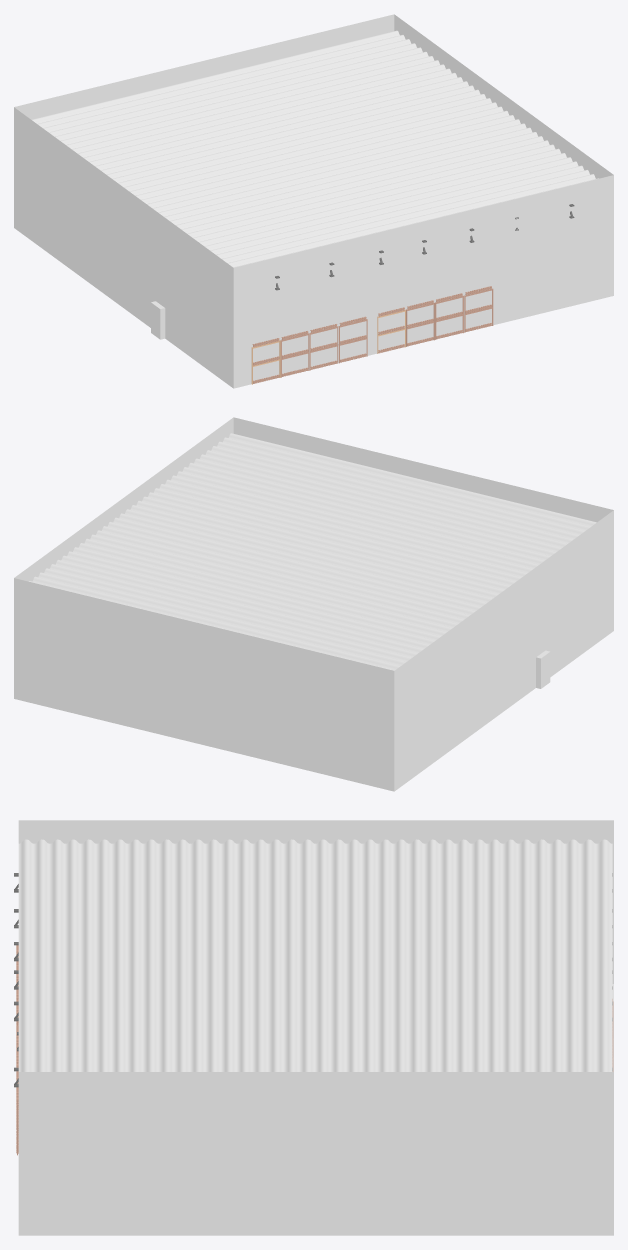
The model's file is coldStoragemap.glb.
3 views of the same model, one above another, from view 1: azimuth 30°, elevation 25°; view 2: azimuth 150°, elevation 25°; view 3: azimuth 270°, elevation 25° (orthographic). The views are drawn at different scales.
Visible parts, largest first — view 1: walls, roof, Cube.018, Cube.035; view 2: walls, roof; view 3: roof, walls.
Part boxes in pixels (x1=…): walls: x1=14, y1=14, x2=613, y2=388; roof: x1=31, y1=30, x2=598, y2=267; Cube.018: x1=377, y1=286, x2=493, y2=353; Cube.035: x1=251, y1=316, x2=367, y2=384; walls: x1=14, y1=417, x2=613, y2=791; roof: x1=29, y1=433, x2=596, y2=670; roof: x1=18, y1=839, x2=612, y2=1071; walls: x1=18, y1=820, x2=613, y2=1235.
Size of the model in its own units: 46.89 by 14.09 by 46.67.
